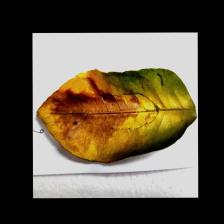black spot: (43, 76, 132, 153)
